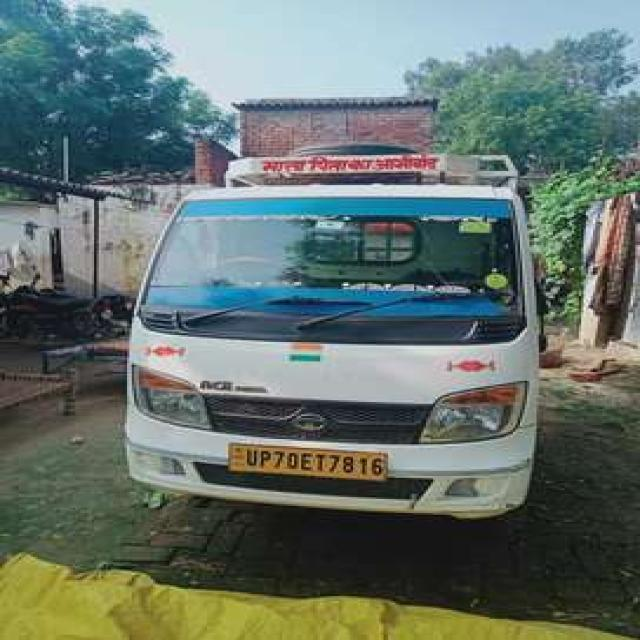licenseplate: (227, 442, 387, 480)
